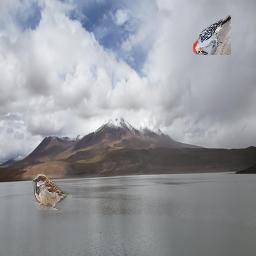Sparrow: (32, 174, 72, 210)
Woodpecker: (193, 15, 231, 55)
